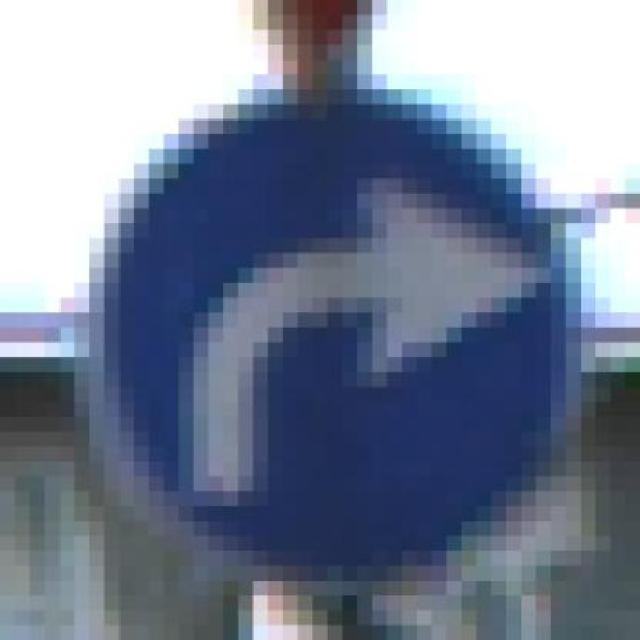Turn right ahead: (90, 59, 596, 581)
